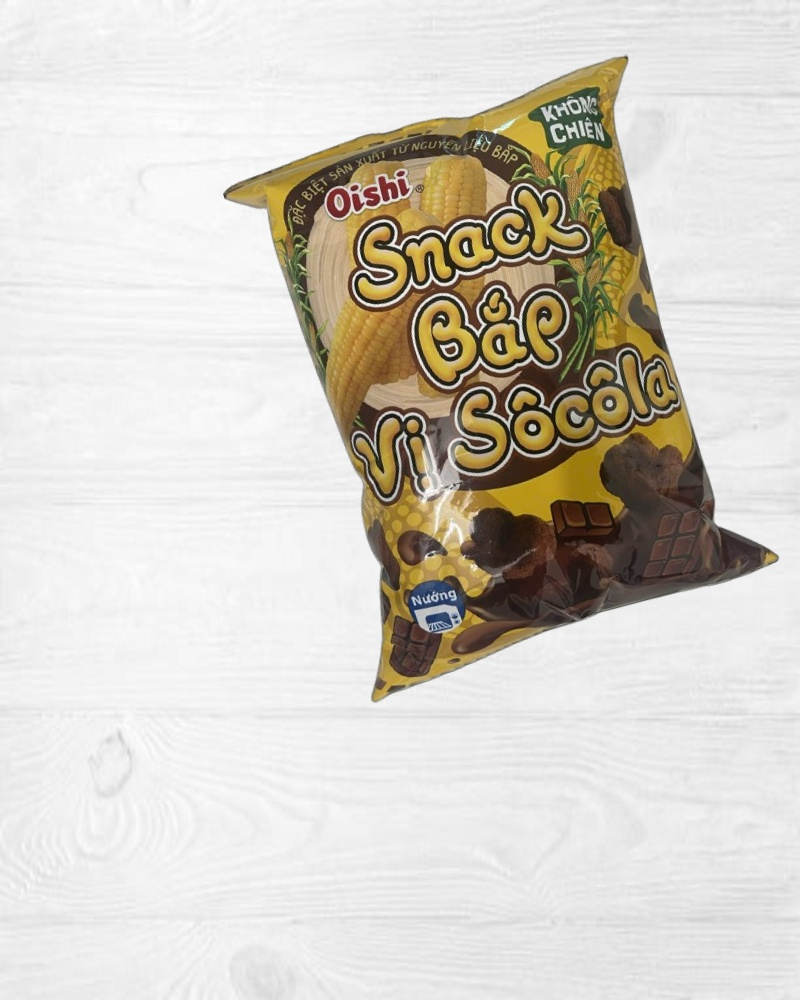Snack socola: (219, 54, 786, 694)
